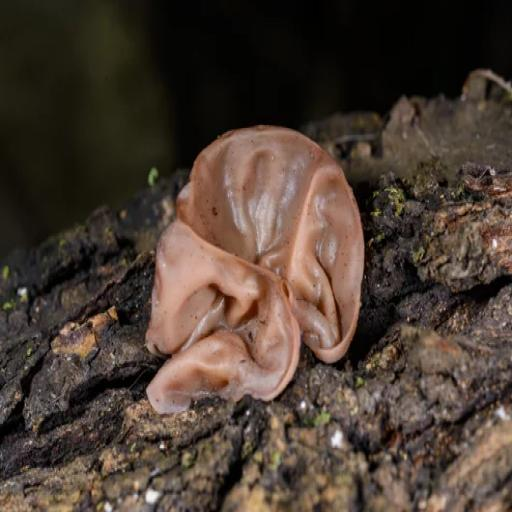Wood Ear Mushroom: (142, 120, 365, 418)
